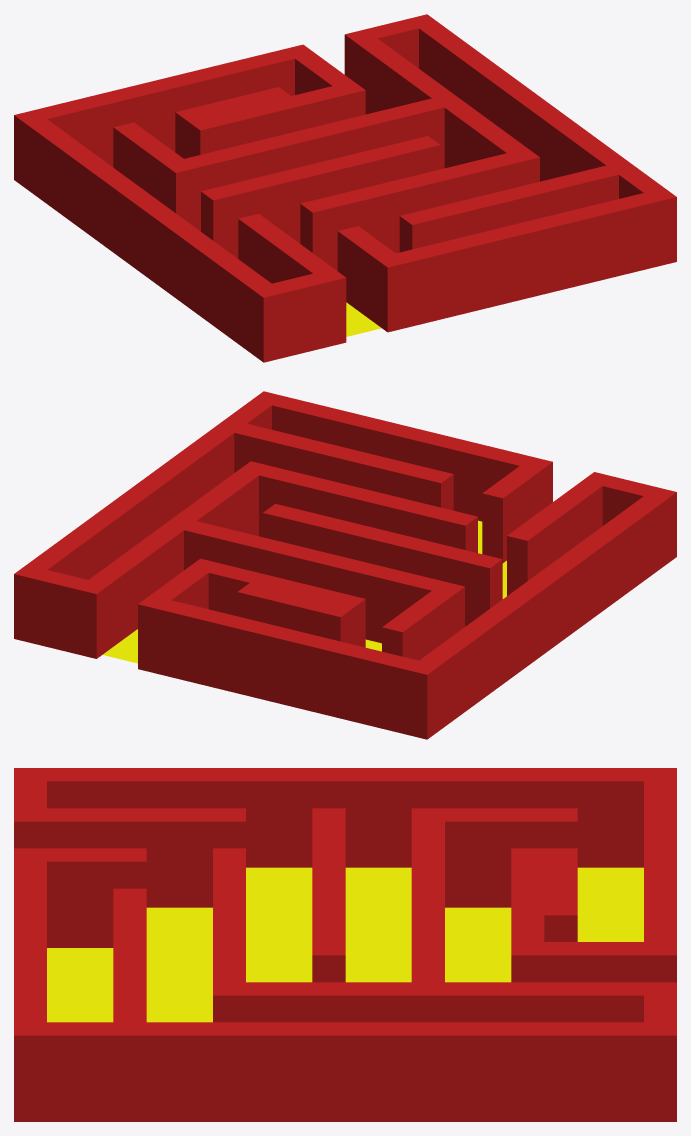
File: maze.glb
3 renders of one model, top to bottom at view 1: azimuth 30°, elevation 25°; view 2: azimuth 150°, elevation 25°; view 3: azimuth 270°, elevation 25°, orthographic. The views are drawn at different scales.
Parts seen in each view (by area): view 1: MAZE.001; view 2: MAZE.001; view 3: MAZE.001.
Boxes of the visible parts, x1=… form: MAZE.001: x1=14, y1=14, x2=676, y2=362; MAZE.001: x1=14, y1=391, x2=676, y2=739; MAZE.001: x1=14, y1=768, x2=676, y2=1121.
Size of the model in its own units: 194 by 29.16 by 203.
